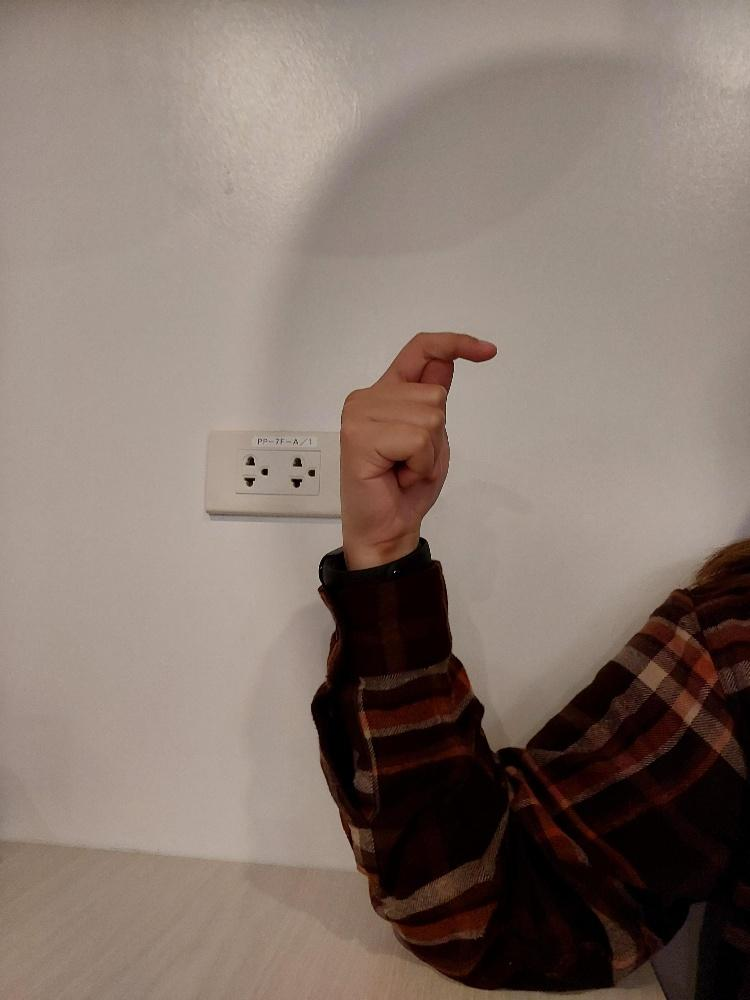t: (334, 326, 500, 549)
